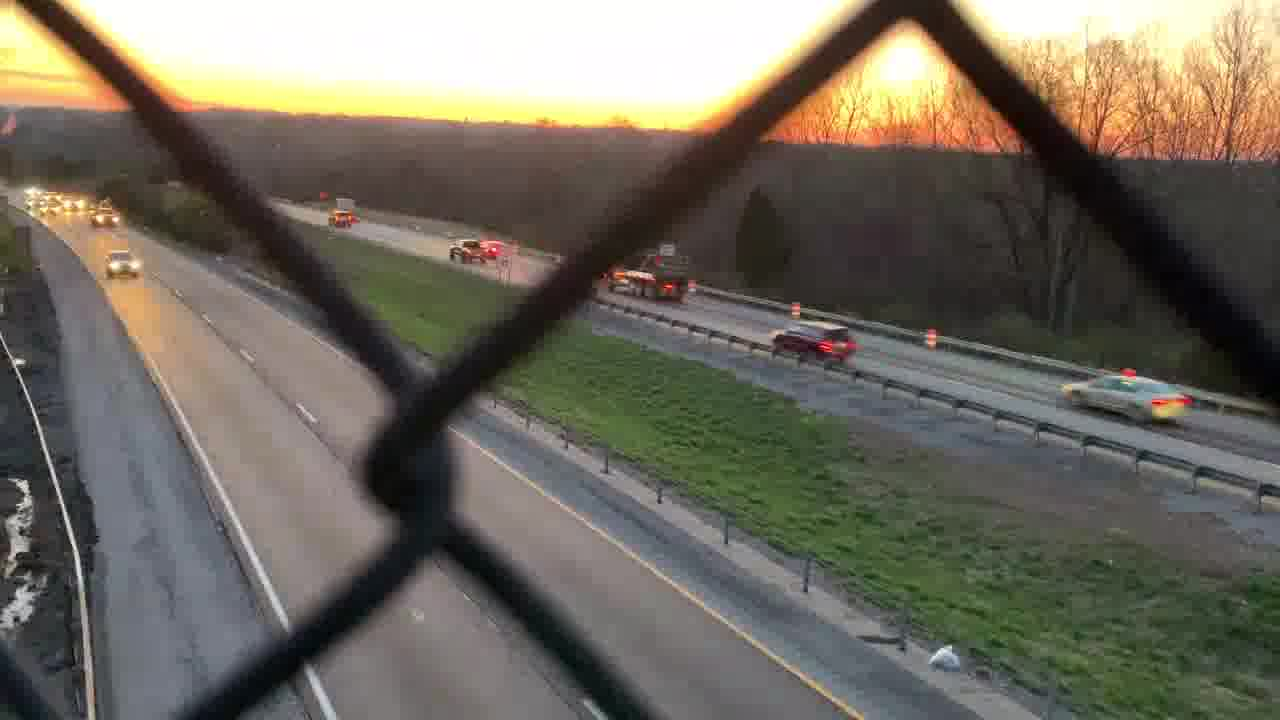heavyTruck: (611, 249, 700, 299)
largeCar: (769, 316, 861, 364), (327, 207, 354, 228)
lightTruck: (447, 242, 491, 266)
smallCar: (1063, 372, 1187, 424)
